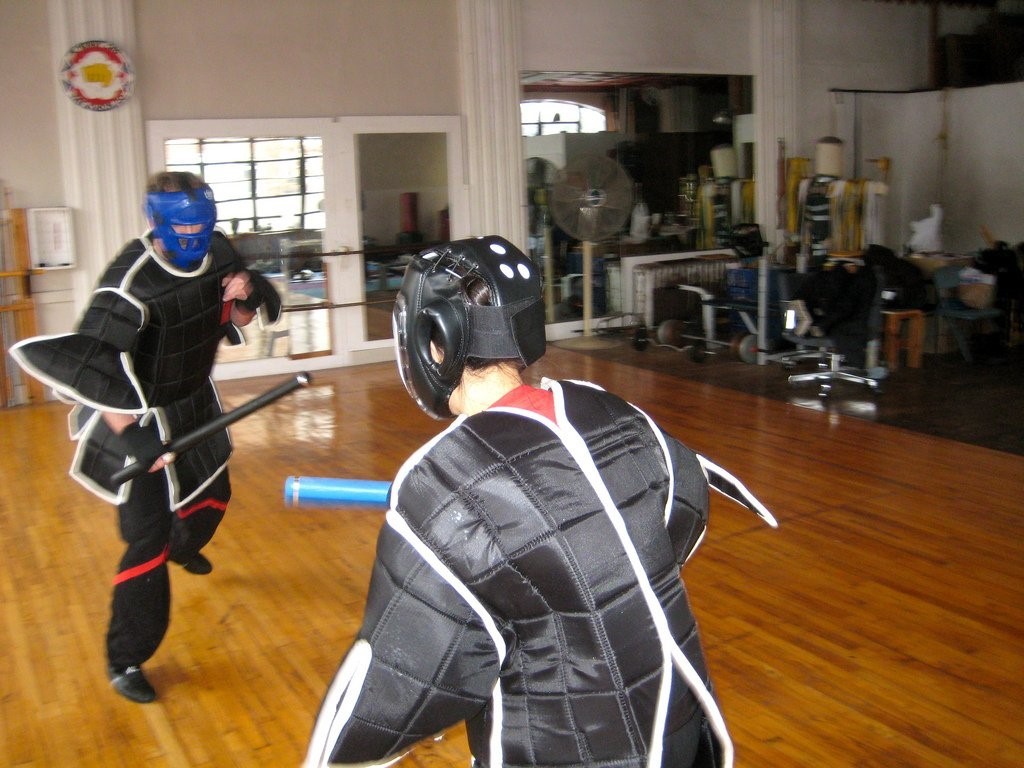baston_e: (121, 376, 296, 484), (290, 473, 396, 508)
baston_v: (279, 471, 309, 509), (293, 365, 315, 389), (105, 470, 125, 490)
